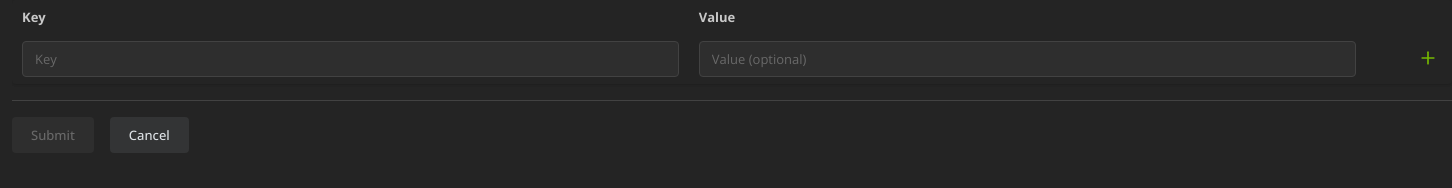
Test: TagFormTable › does not add a tag when the key is invalid
Step 1. Type "invalid-key" into the field with placeholder "Key" → point(350, 59), box [22,41,679,77]
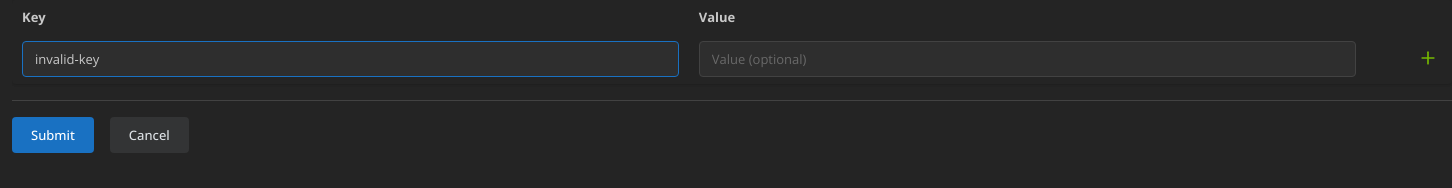
Step 2. Type "value" into the field with placeholder "Value (optional)" → point(1027, 59), box [699,41,1356,77]
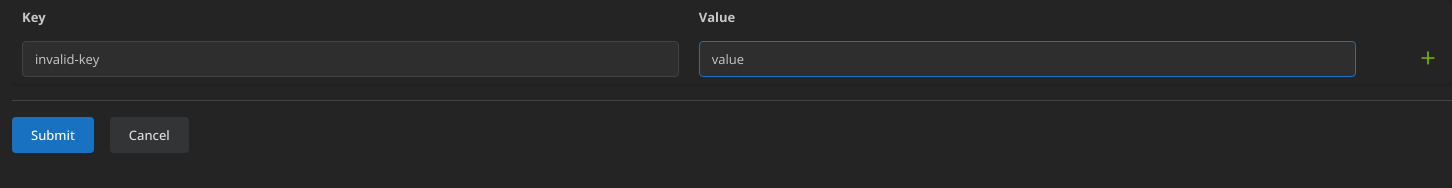
Step 3. Click the button titled "Add tag" → point(1428, 55), box [1414,41,1442,69]
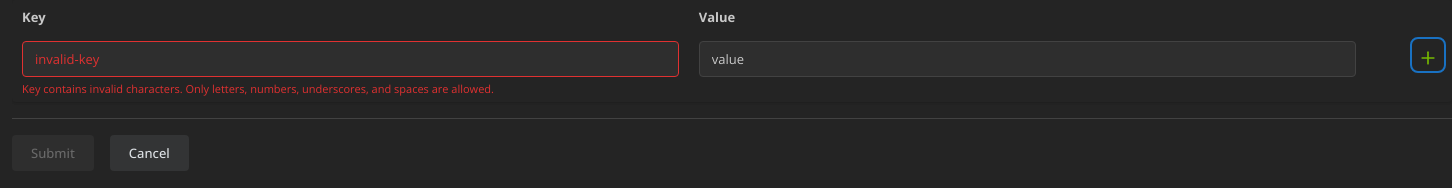
Check: the number of rows is 2, box [12,0,1451,34]; [12,34,1451,102]
Check: the text "Key contains invalid characters. Only letters, numbers, underscores, and spaces are allowed." is shown, box [22,81,494,96]
